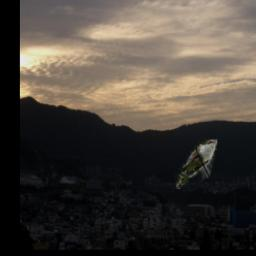Cuckoo: (176, 139, 218, 189)
